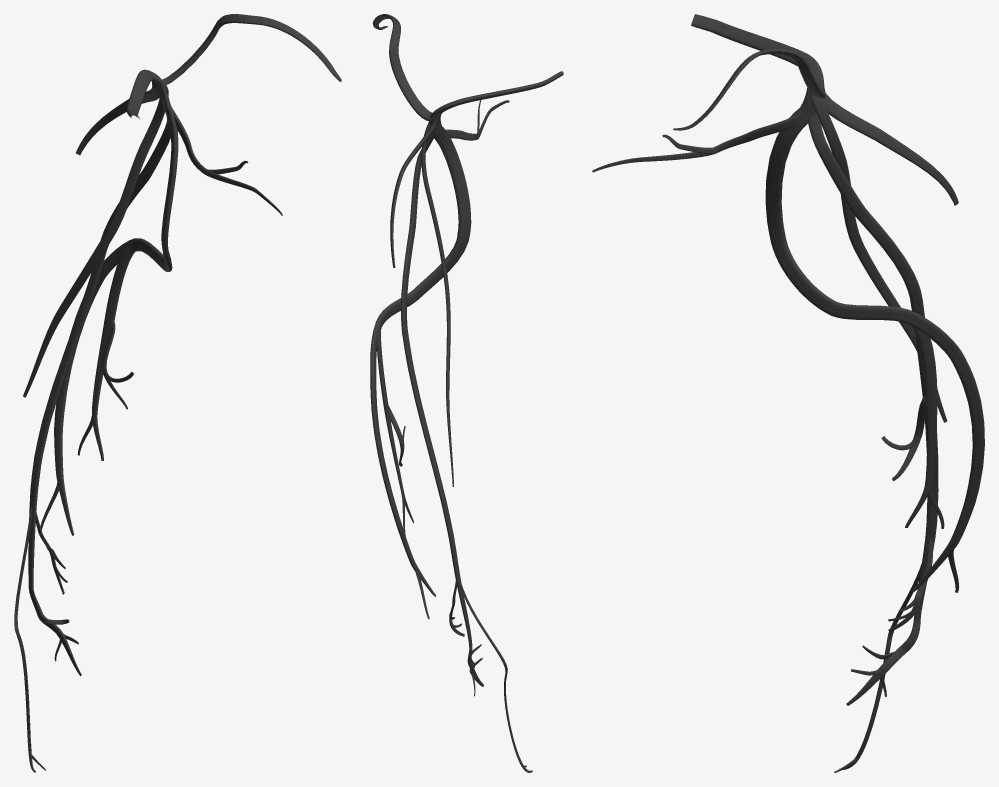
The model's file is L_Trigeminus_Mandibular.glb.
The picture shows the model from 3 angles, left to right: view 1: azimuth 30°, elevation 25°; view 2: azimuth 150°, elevation 25°; view 3: azimuth 270°, elevation 25°; orthographic projection. The views are drawn at different scales.
Parts seen in each view (by area): view 1: L_Trigeminus_Mandibular; view 2: L_Trigeminus_Mandibular; view 3: L_Trigeminus_Mandibular.
Part boxes in pixels (x1,y1,x2,y2): L_Trigeminus_Mandibular: (14,14,341,772); L_Trigeminus_Mandibular: (370,14,563,772); L_Trigeminus_Mandibular: (592,14,984,772).
Size of the model in its own units: 0.4702 by 1.41 by 0.6145.
1 material, 1 textured.
